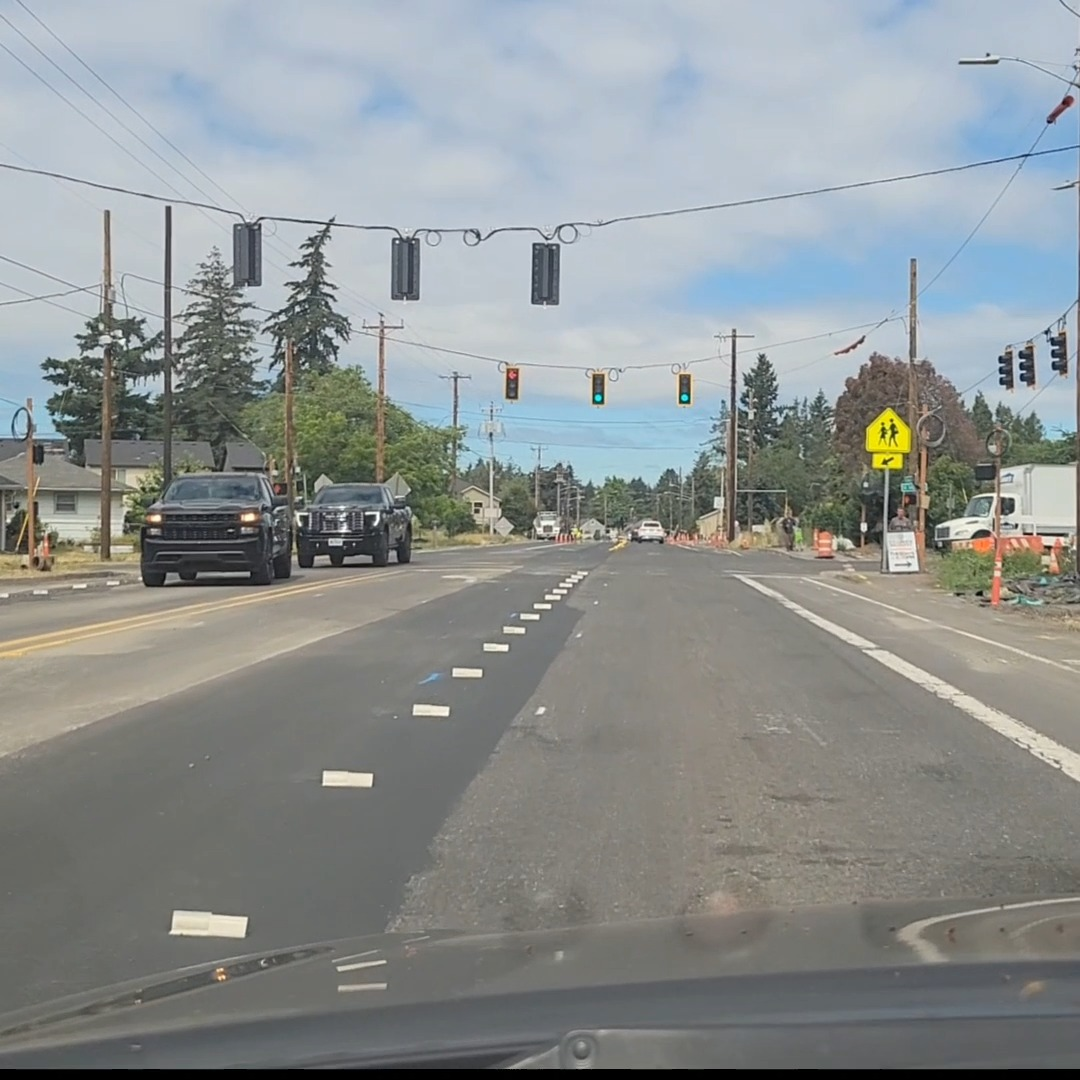car: (135, 473, 294, 587), (292, 482, 414, 568), (629, 519, 666, 543)
crosswalk-sign: (865, 407, 911, 453)
delineator: (869, 515, 884, 549), (44, 527, 59, 555)
